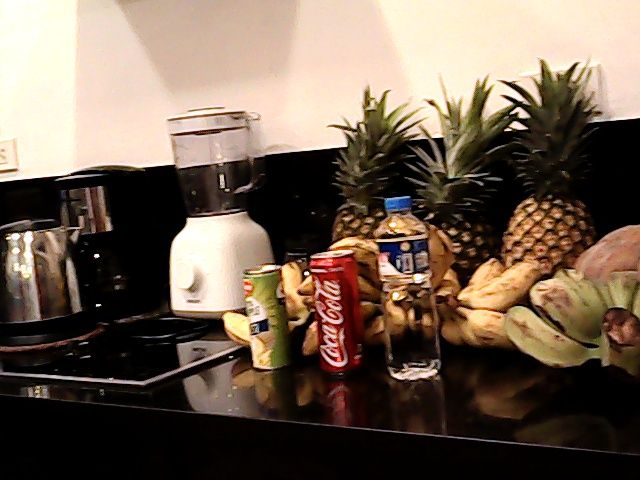Cola: (311, 249, 365, 371)
Pine Juice: (241, 265, 292, 376)
Summit Water: (371, 196, 445, 381)
